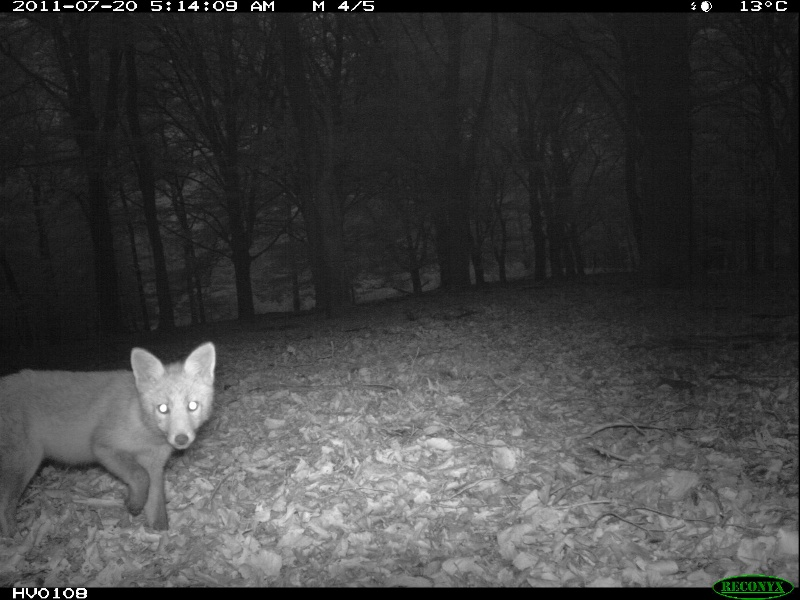fox: (1, 337, 219, 550)
